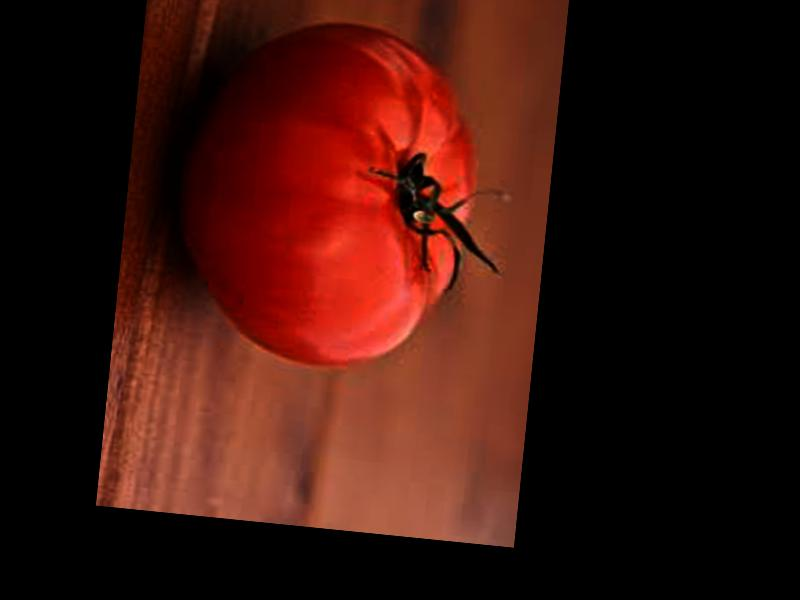Tomato: (164, 10, 488, 382)
